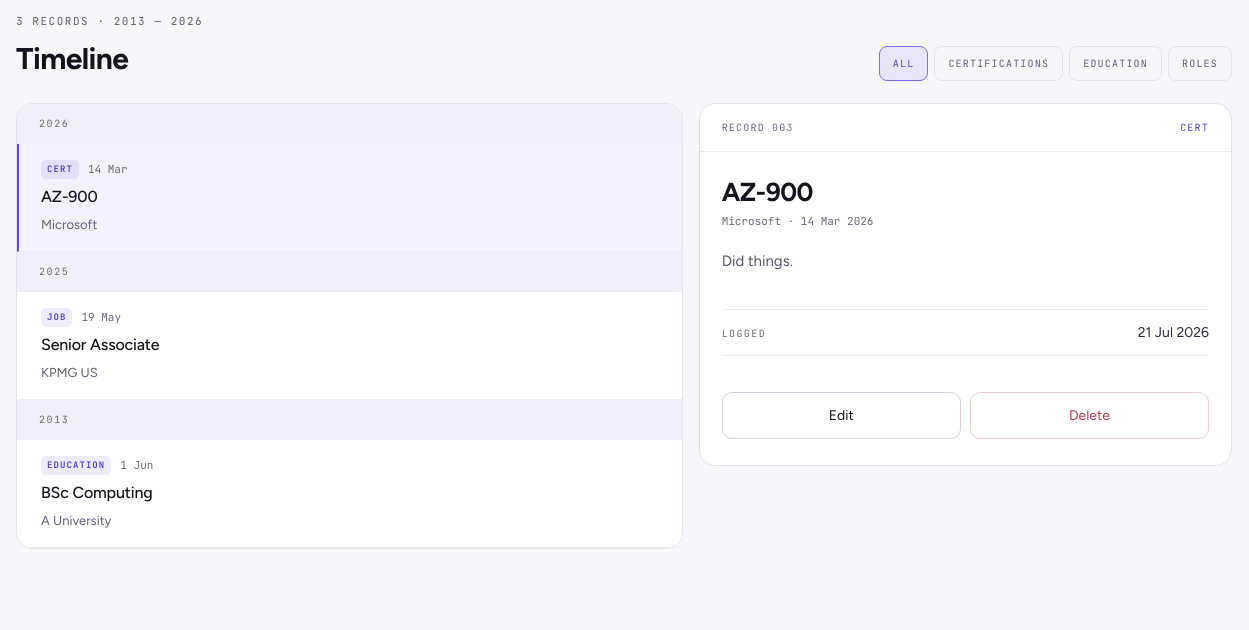
Test: the detail panel › switching records abandons a half-finished edit rather than carrying it across
Click the button "Edit" at (841, 416), box [722,392,961,439]
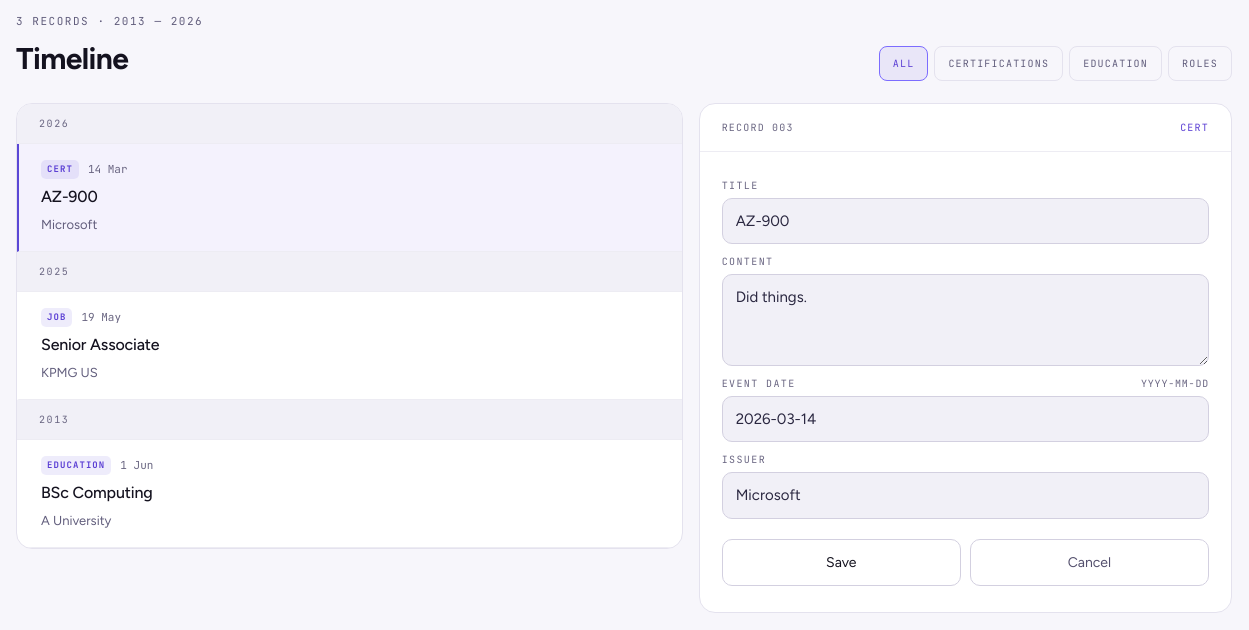
Check: the field showing "AZ-900" is shown, box [722,198,1209,244]
Click the button "JOB 19 May Senior Associate KPMG US" at (57, 317), box [17,292,682,400]
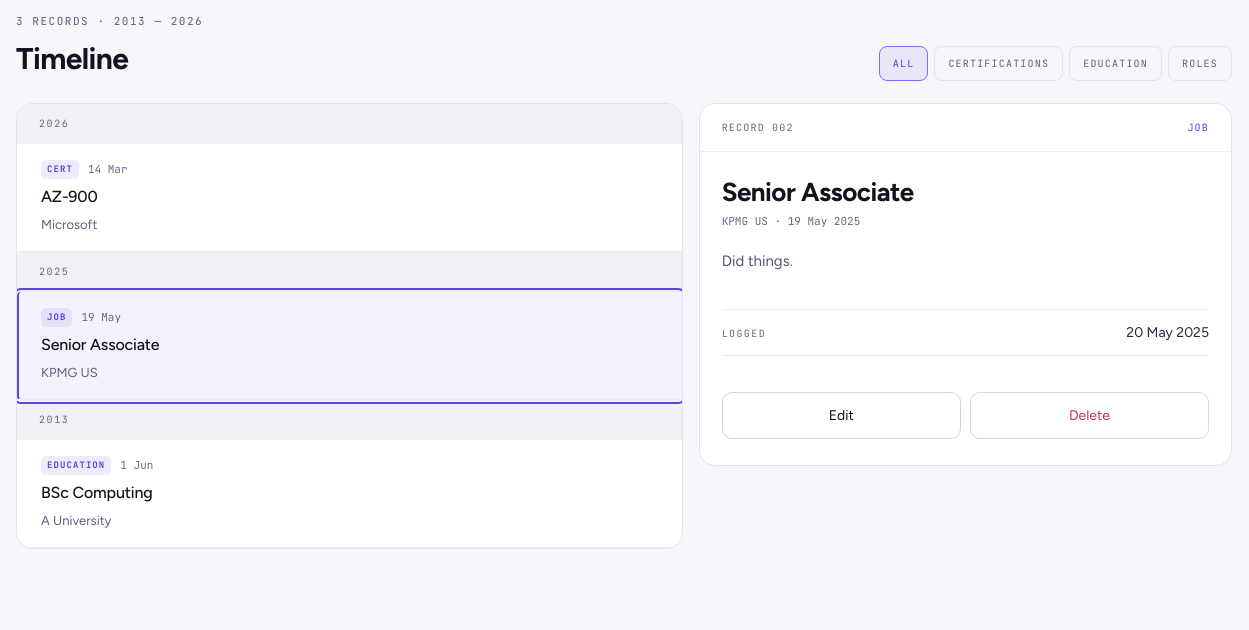
Check: the button "Edit" is shown, box [722,392,961,439]
